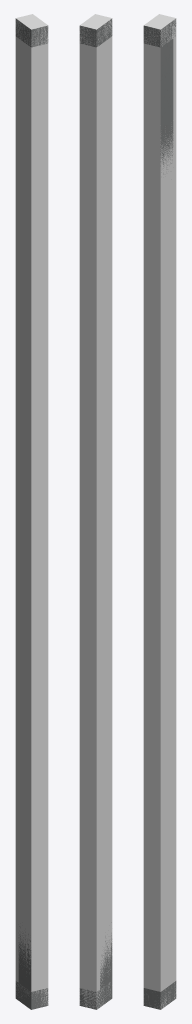
The model's file is SM_Glass_End.fbx.
The picture shows the model from 3 angles, left to right: view 1: azimuth 30°, elevation 25°; view 2: azimuth 150°, elevation 25°; view 3: azimuth 330°, elevation 25°; orthographic projection.
Parts seen in each view (by area): view 1: SM_Glass_End_ConvexHulls, SM_Glass_End_LOD0; view 2: SM_Glass_End_ConvexHulls, SM_Glass_End_LOD0; view 3: SM_Glass_End_ConvexHulls, SM_Glass_End_LOD0.
Boxes of the visible parts, bbox=[...] form: SM_Glass_End_ConvexHulls: bbox=[15, 14, 48, 1005]; SM_Glass_End_LOD0: bbox=[15, 18, 48, 1009]; SM_Glass_End_ConvexHulls: bbox=[79, 14, 112, 1009]; SM_Glass_End_LOD0: bbox=[79, 19, 112, 1009]; SM_Glass_End_ConvexHulls: bbox=[143, 14, 176, 1009]; SM_Glass_End_LOD0: bbox=[143, 19, 176, 1009].
Bounding box in the file's own units: 6.41 × 10.13 × 350.
1 material, 1 textured.
